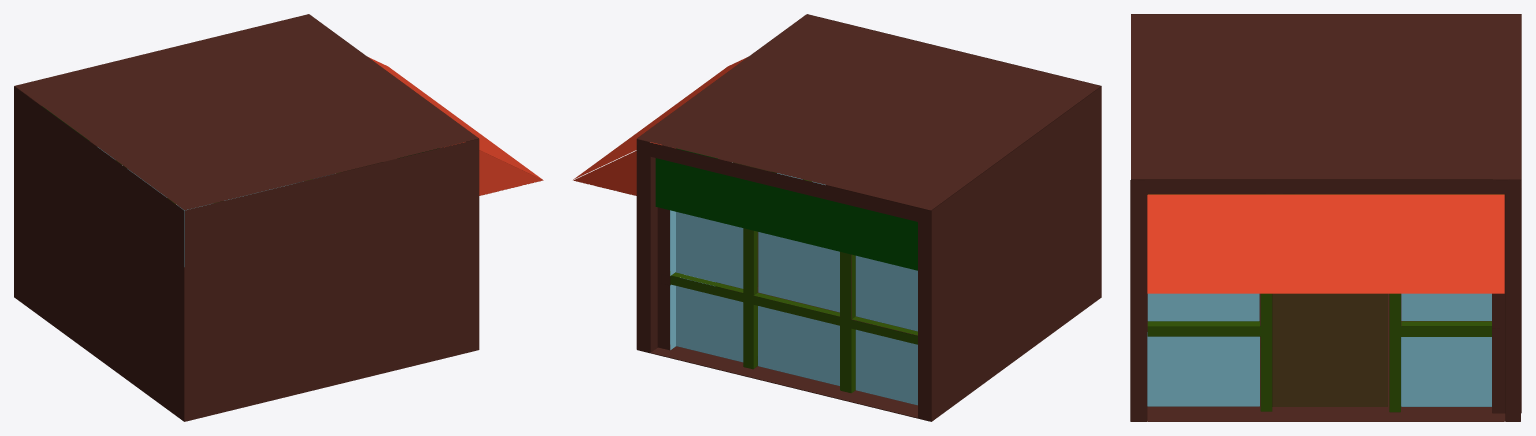
File: COFFEE SHOP.fbx
3 views of the same model, side by side, from view 1: azimuth 30°, elevation 25°; view 2: azimuth 150°, elevation 25°; view 3: azimuth 270°, elevation 25° (orthographic). The views are drawn at different scales.
Parts seen in each view (by area): view 1: Coffee Shop Structure, Building Umbrella; view 2: Coffee Shop Structure, Windows, Shop Sign, Wood Structure, Building Umbrella; view 3: Coffee Shop Structure, Building Umbrella, Windows, Door, Wood Structure.
Part boxes in pixels (x1,y1,x2,y2): Coffee Shop Structure: (14,14,479,421); Building Umbrella: (368,57,543,195); Coffee Shop Structure: (636,14,1101,421); Windows: (670,173,917,405); Shop Sign: (655,148,917,270); Wood Structure: (670,171,917,393); Building Umbrella: (573,57,747,195); Coffee Shop Structure: (1130,14,1521,421); Building Umbrella: (1147,194,1504,293); Windows: (1147,293,1491,406); Door: (1272,293,1387,406); Wood Structure: (1147,293,1491,412).
Bounding box in the file's own units: 1621 × 892 × 1304.
Materials: 6 (5 with a texture image).
